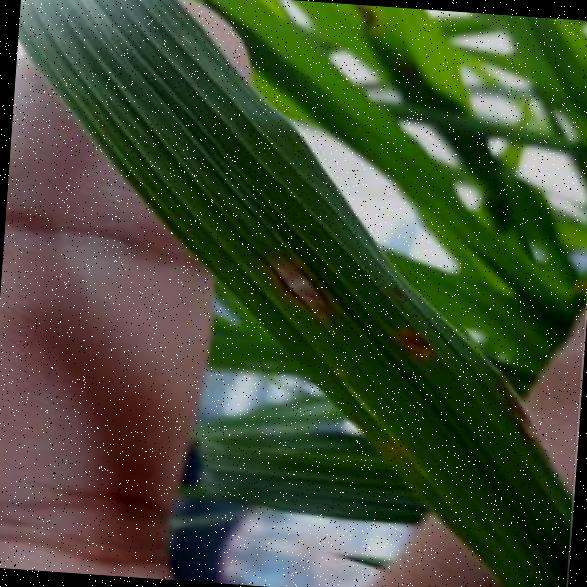Leaf_smut: (363, 300, 467, 398), (242, 221, 336, 327)
